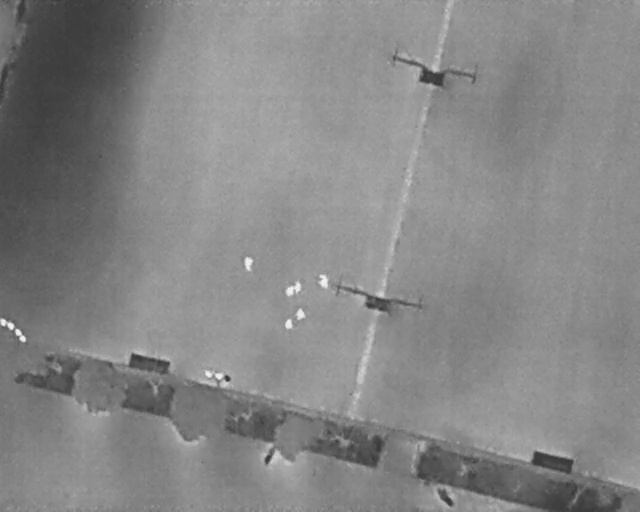Person: (244, 255, 254, 272), (319, 274, 328, 289), (295, 307, 305, 320), (294, 280, 302, 294), (285, 284, 294, 296), (285, 317, 293, 329)
